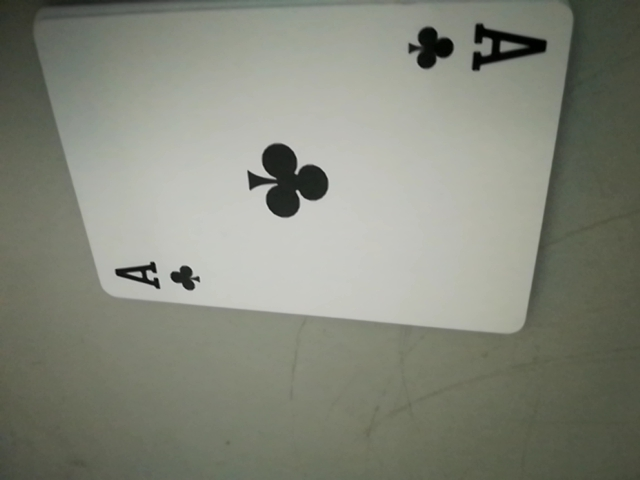mh a: (405, 14, 545, 82), (107, 254, 211, 298)
